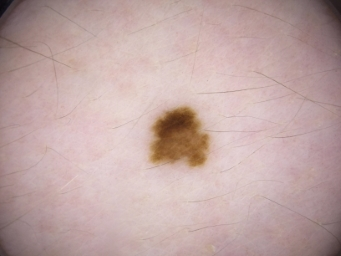melanoma: (152, 105, 210, 170)
